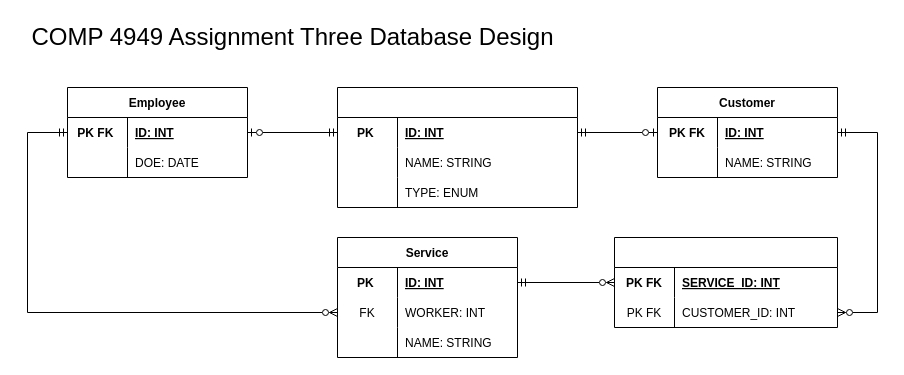
Image size: 904x375. Some labels were removed from this diagram. Here are the shapes that lost their labels. From the top down, the box of each, then its label:
(336, 86, 578, 208): Person
(614, 236, 838, 328): Job
